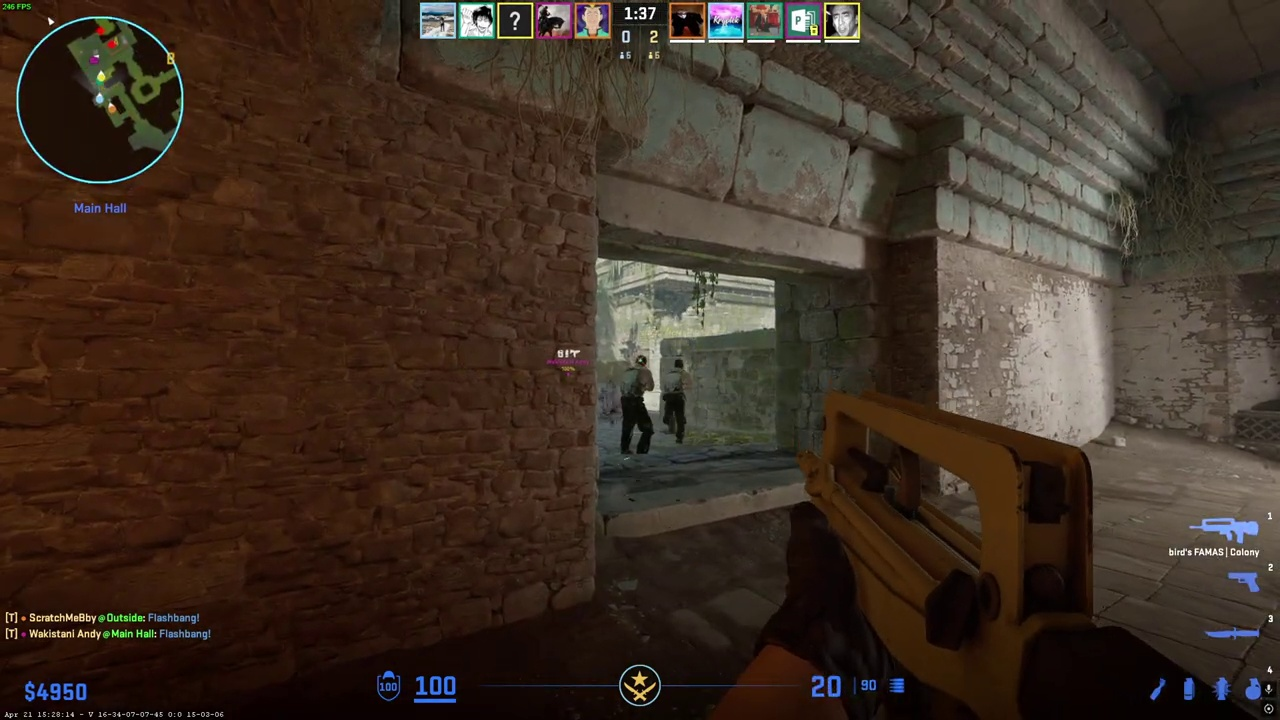Terrorist: (620, 354, 655, 455), (662, 359, 691, 444)
